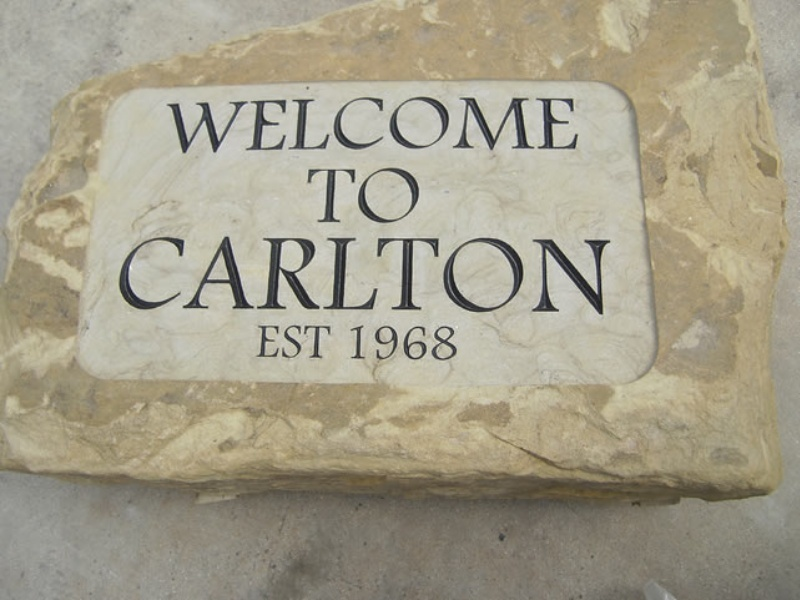text: (129, 235, 144, 316), (145, 235, 160, 316), (161, 235, 176, 316), (177, 235, 192, 316), (193, 235, 208, 316), (209, 235, 224, 316), (225, 235, 240, 316), (241, 235, 256, 316), (257, 235, 272, 316), (273, 235, 288, 316), (289, 235, 304, 316), (305, 235, 320, 316), (321, 235, 336, 316), (337, 235, 352, 316), (353, 235, 368, 316), (369, 235, 384, 316), (385, 235, 400, 316), (401, 235, 416, 316), (417, 235, 432, 316), (433, 235, 448, 316), (449, 235, 464, 316), (465, 235, 480, 316), (481, 235, 496, 316), (497, 235, 512, 316), (513, 235, 528, 316), (529, 235, 544, 316), (545, 235, 560, 316), (561, 235, 576, 316), (577, 235, 592, 316), (593, 235, 608, 316), (321, 165, 336, 225), (337, 165, 352, 225), (353, 165, 368, 225), (369, 165, 384, 225), (385, 165, 400, 225), (401, 165, 416, 225), (177, 97, 192, 154), (193, 97, 208, 154), (209, 97, 224, 154), (225, 97, 240, 154), (241, 97, 256, 154), (257, 97, 272, 154), (273, 97, 288, 154), (289, 97, 304, 154), (305, 97, 320, 154), (321, 97, 336, 154), (337, 97, 352, 154), (353, 97, 368, 154), (369, 97, 384, 154), (385, 97, 400, 154), (401, 97, 416, 154), (417, 97, 432, 154), (433, 97, 448, 154), (449, 97, 464, 154), (465, 97, 480, 154), (481, 97, 496, 154), (497, 97, 512, 154), (513, 97, 528, 154), (529, 97, 544, 154), (545, 97, 560, 154), (561, 97, 576, 154), (306, 165, 320, 225), (164, 97, 176, 154), (273, 321, 288, 360), (289, 321, 304, 360), (305, 321, 320, 360), (258, 321, 272, 360), (321, 321, 335, 360), (353, 325, 368, 361), (369, 325, 384, 361), (385, 325, 400, 361), (401, 325, 416, 361), (417, 325, 432, 361), (433, 325, 448, 361), (417, 165, 424, 225), (449, 325, 459, 361), (609, 235, 612, 316), (577, 97, 580, 154), (127, 235, 128, 316), (350, 325, 352, 361)
